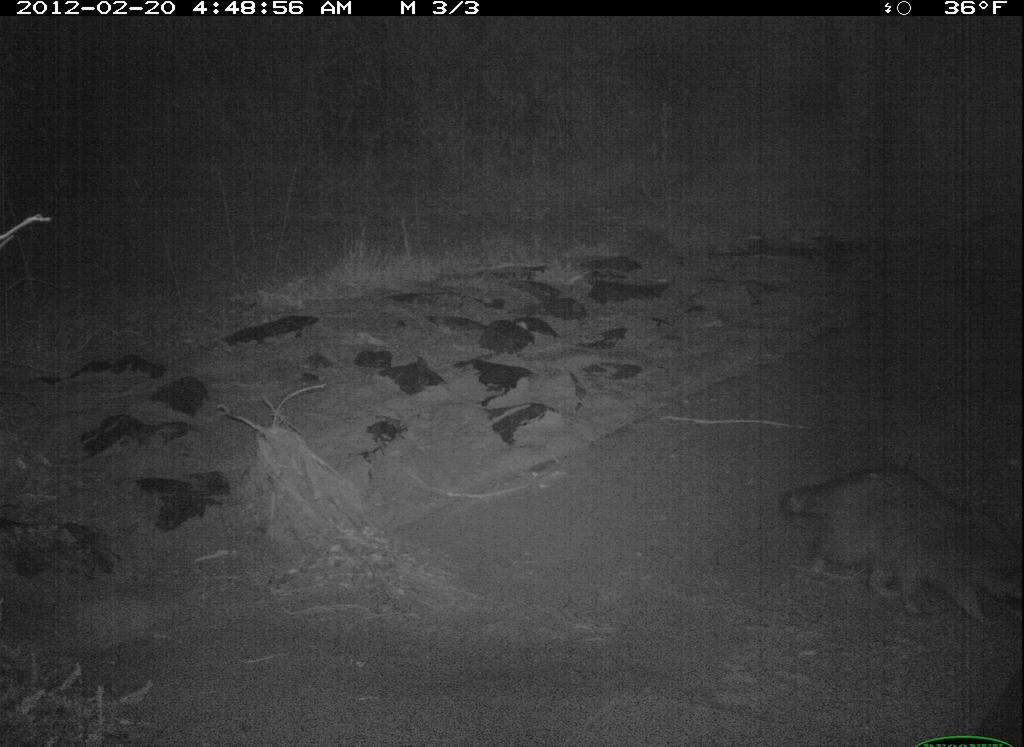raccoon: (771, 455, 1022, 638)
